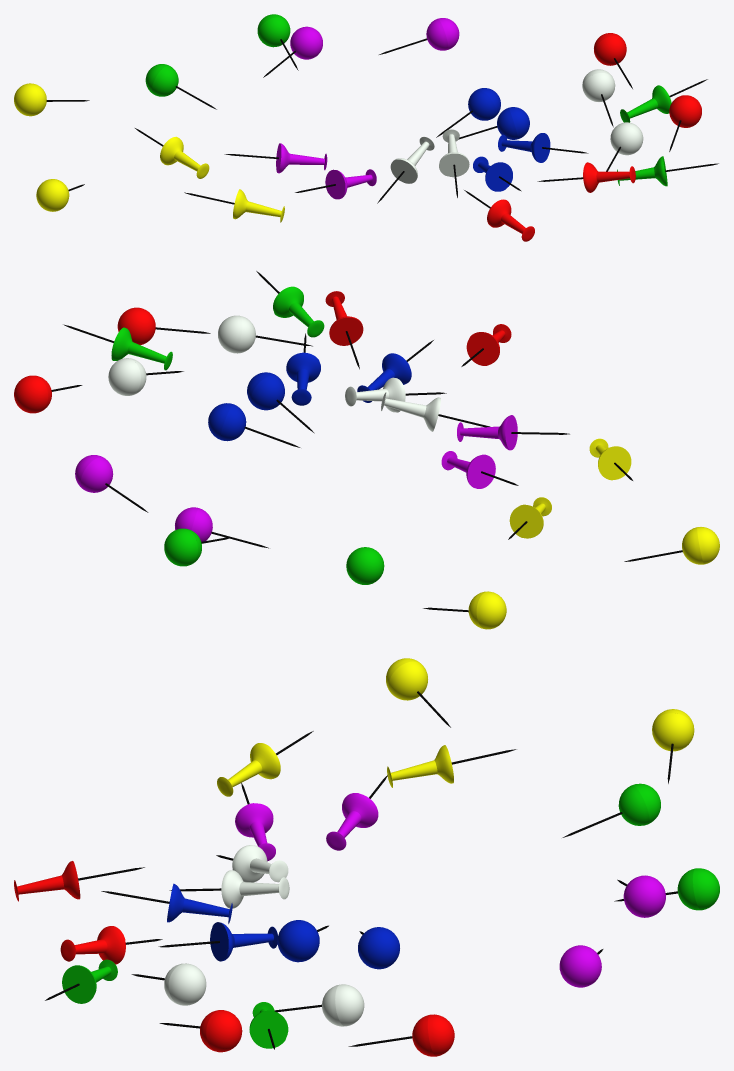
File: Paper_pin.FBX
3 views of the same model, one above another, from view 1: azimuth 30°, elevation 25°; view 2: azimuth 150°, elevation 25°; view 3: azimuth 270°, elevation 25° (orthographic). The views are drawn at different scales.
Parts seen in each view (by area): view 1: Sphere051, Sphere046, Sphere044, Sphere048, Sphere045, Line031, Sphere053, Line032, Line038, Line037, Sphere052, Sphere042 (+12 smaller); view 2: Sphere047, Sphere044, Sphere049, Sphere053, Sphere051, Sphere048, Sphere042, Line035, Line029, Line030, Line039, Sphere043 (+12 smaller); view 3: Sphere043, Sphere046, Sphere042, Line035, Sphere047, Sphere050, Line033, Sphere049, Line039, Sphere053, Line030, Line029 (+12 smaller).
Part boxes in pixels (x1,y1,x2,y2): Sphere051: (379, 18, 459, 54); Sphere046: (145, 64, 216, 109); Sphere044: (436, 88, 500, 137); Sphere048: (458, 107, 529, 139); Sphere045: (263, 26, 322, 77); Line031: (439, 129, 469, 197); Sphere053: (14, 83, 89, 116); Line032: (295, 169, 376, 199); Line038: (377, 136, 434, 203); Line037: (464, 190, 534, 241); Sphere052: (257, 14, 298, 70); Sphere042: (582, 69, 615, 127); Sphere047: (624, 527, 719, 564); Sphere044: (208, 403, 300, 447); Sphere049: (218, 315, 312, 353); Sphere053: (423, 591, 506, 629); Sphere051: (75, 455, 148, 512); Sphere048: (247, 372, 314, 433); Sphere042: (108, 358, 183, 395); Line035: (441, 451, 518, 488); Line029: (286, 333, 320, 405); Line030: (325, 291, 363, 369); Line039: (256, 271, 324, 337); Sphere043: (14, 375, 82, 413); Sphere043: (348, 1014, 454, 1056); Sphere046: (562, 783, 660, 837); Sphere042: (274, 984, 364, 1026); Line035: (326, 775, 387, 850); Sphere047: (386, 658, 450, 727); Sphere050: (159, 1010, 242, 1052); Line033: (217, 731, 313, 796); Sphere049: (131, 963, 206, 1005); Line039: (45, 959, 117, 1003); Sphere053: (652, 709, 694, 783); Line030: (60, 926, 162, 964); Line029: (158, 922, 277, 961).
Size of the model in its own units: 17.32 by 0.9386 by 13.32.
